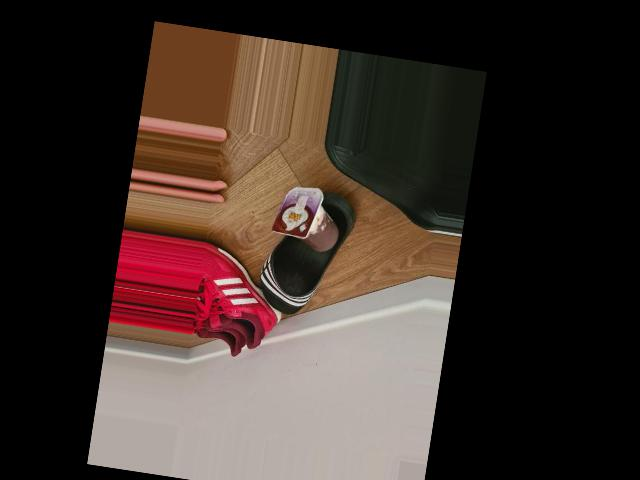milky: (266, 181, 350, 260)
